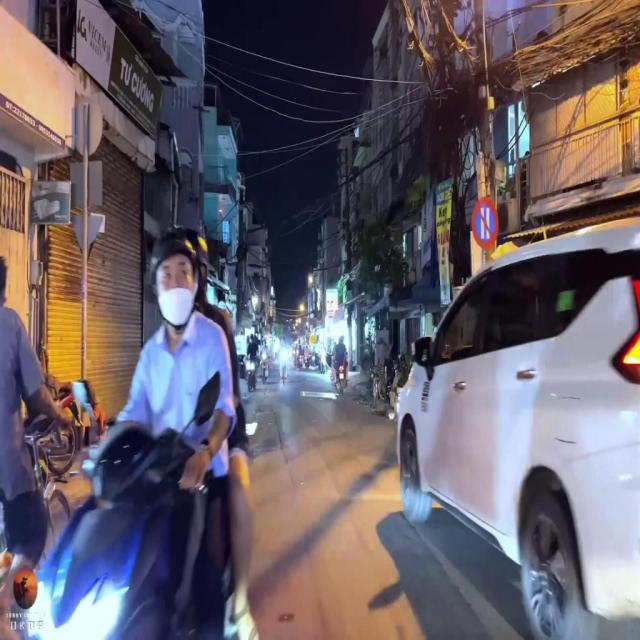cam_do_xe: (471, 197, 500, 250)
